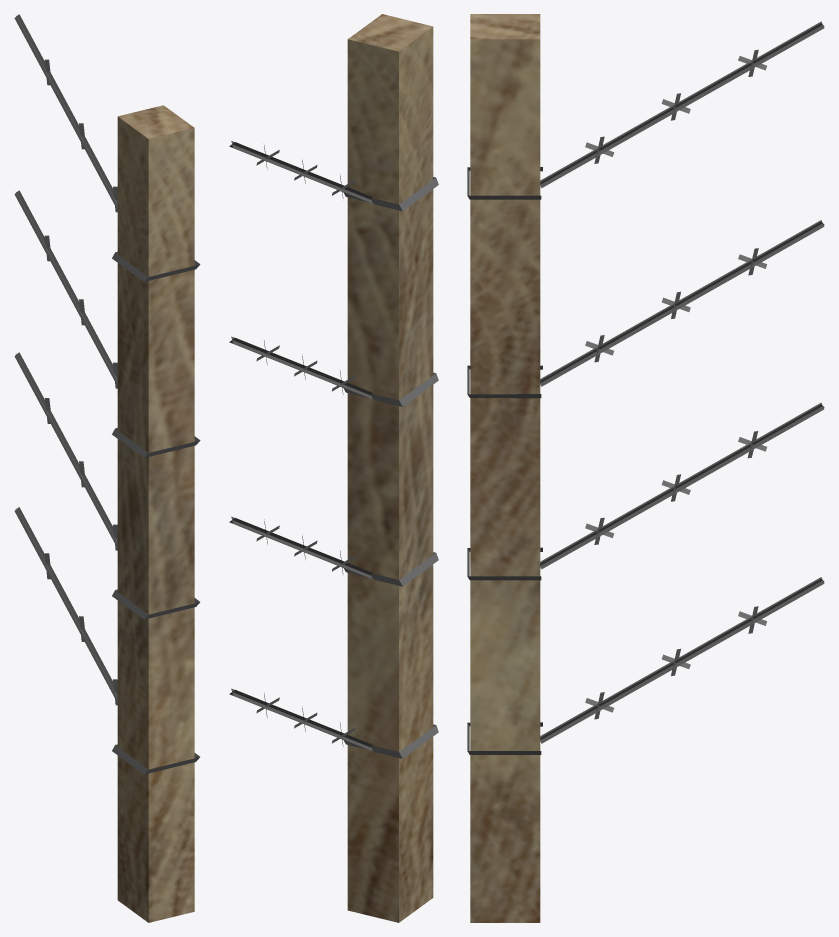
The model's file is barbed-fence-small-with-angle.glb.
3 renders of one model, left to right at view 1: azimuth 30°, elevation 25°; view 2: azimuth 150°, elevation 25°; view 3: azimuth 270°, elevation 25°, orthographic. The views are drawn at different scales.
Parts seen in each view (by area): view 1: Cube.065; view 2: Cube.065; view 3: Cube.065.
Part boxes in pixels (box(x1,y1,x2,y2)): Cube.065: box(14, 14, 200, 922); Cube.065: box(229, 14, 438, 922); Cube.065: box(467, 14, 824, 922).
Size of the model in its own units: 0.0941 by 1.28 by 0.4678.
Materials: 3 (1 with a texture image).
